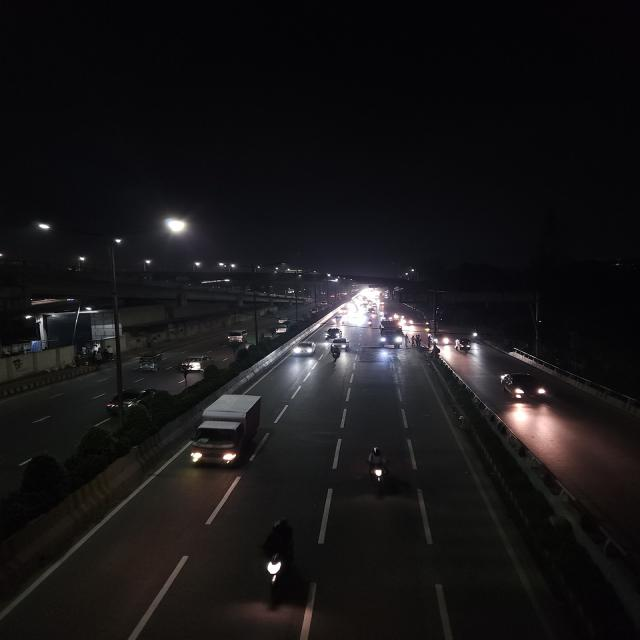bus: (379, 320, 406, 348)
car: (106, 384, 173, 418), (496, 370, 550, 407), (177, 354, 217, 376), (291, 339, 318, 359), (225, 326, 249, 344), (272, 324, 292, 336), (332, 337, 350, 350), (325, 328, 341, 338), (332, 314, 345, 326), (277, 316, 291, 324)
cng: (132, 349, 167, 376), (456, 338, 473, 353)
motorcycle: (255, 517, 303, 602), (363, 446, 395, 494), (331, 346, 342, 362), (366, 318, 375, 327)
truck: (187, 391, 264, 471)
